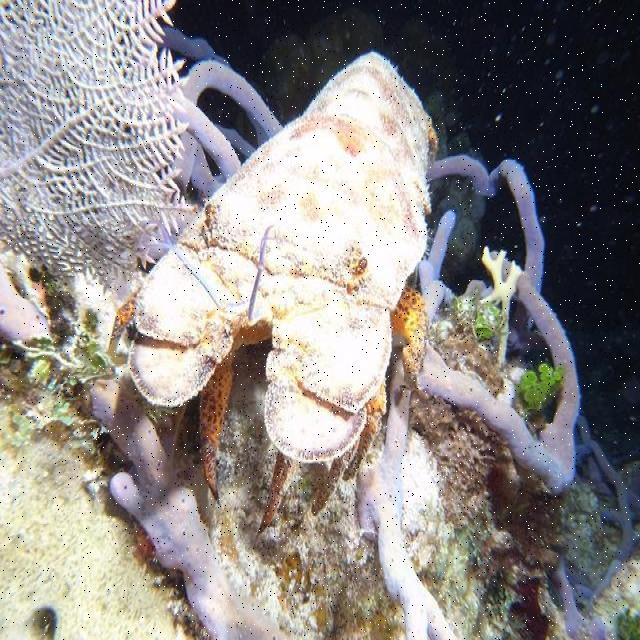reefs: (129, 48, 445, 536)
